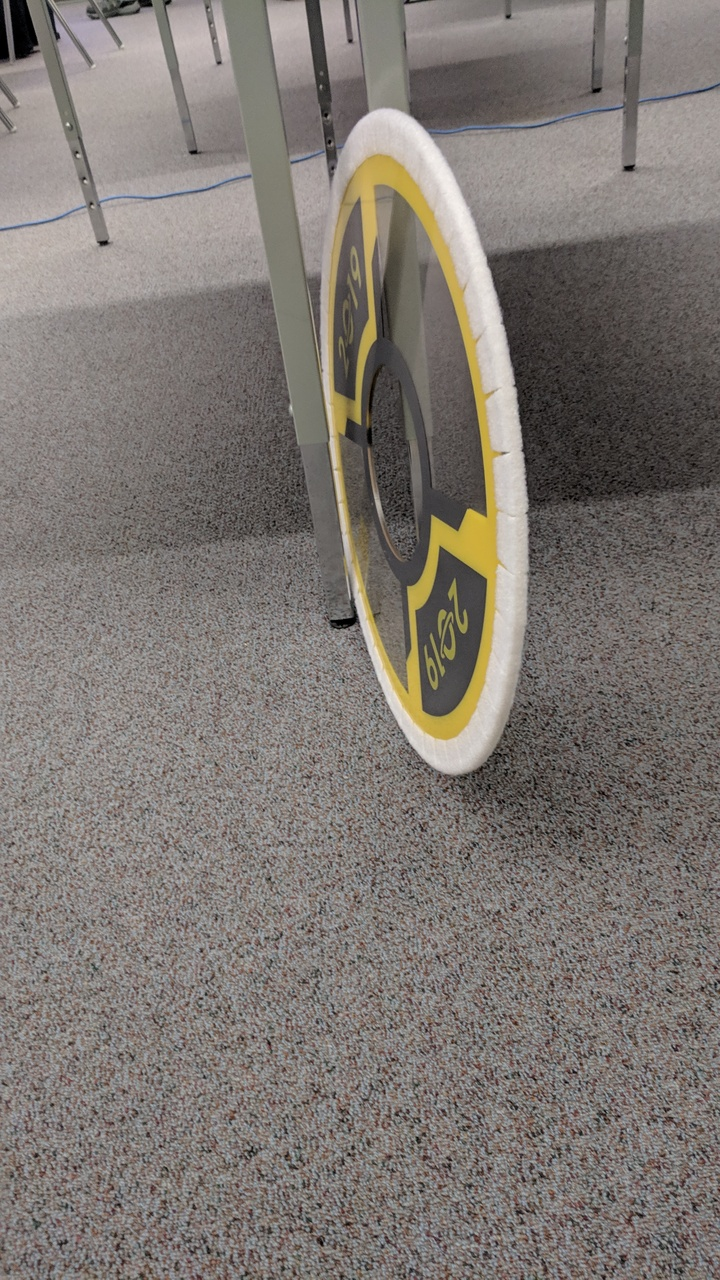hatch_panel: (315, 103, 542, 791)
